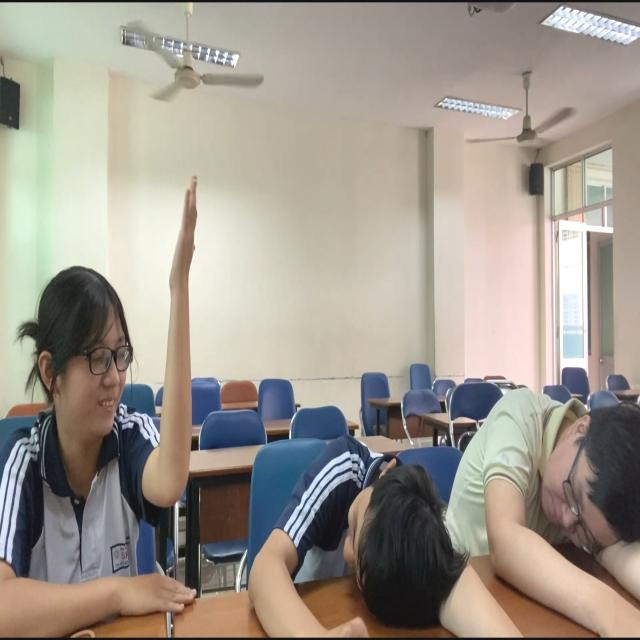raise_hand: (1, 168, 216, 640)
sleep: (242, 430, 470, 640), (456, 368, 640, 603)
